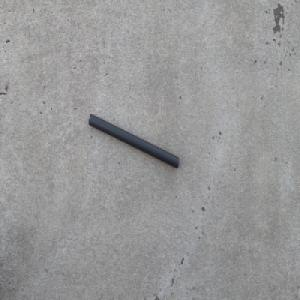LuggagePart: (88, 112, 179, 170)
